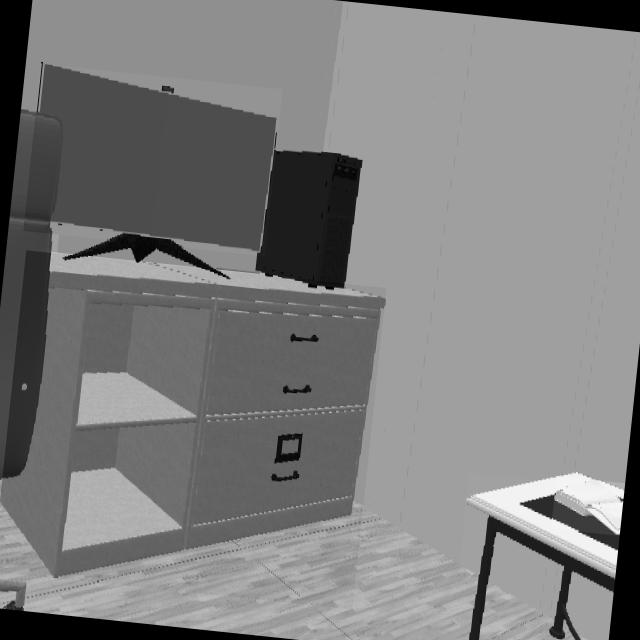book: (553, 480, 624, 535)
cabinet: (1, 258, 384, 577)
chair: (0, 111, 63, 482)
monitor: (36, 64, 277, 254)
table: (466, 480, 619, 640)
